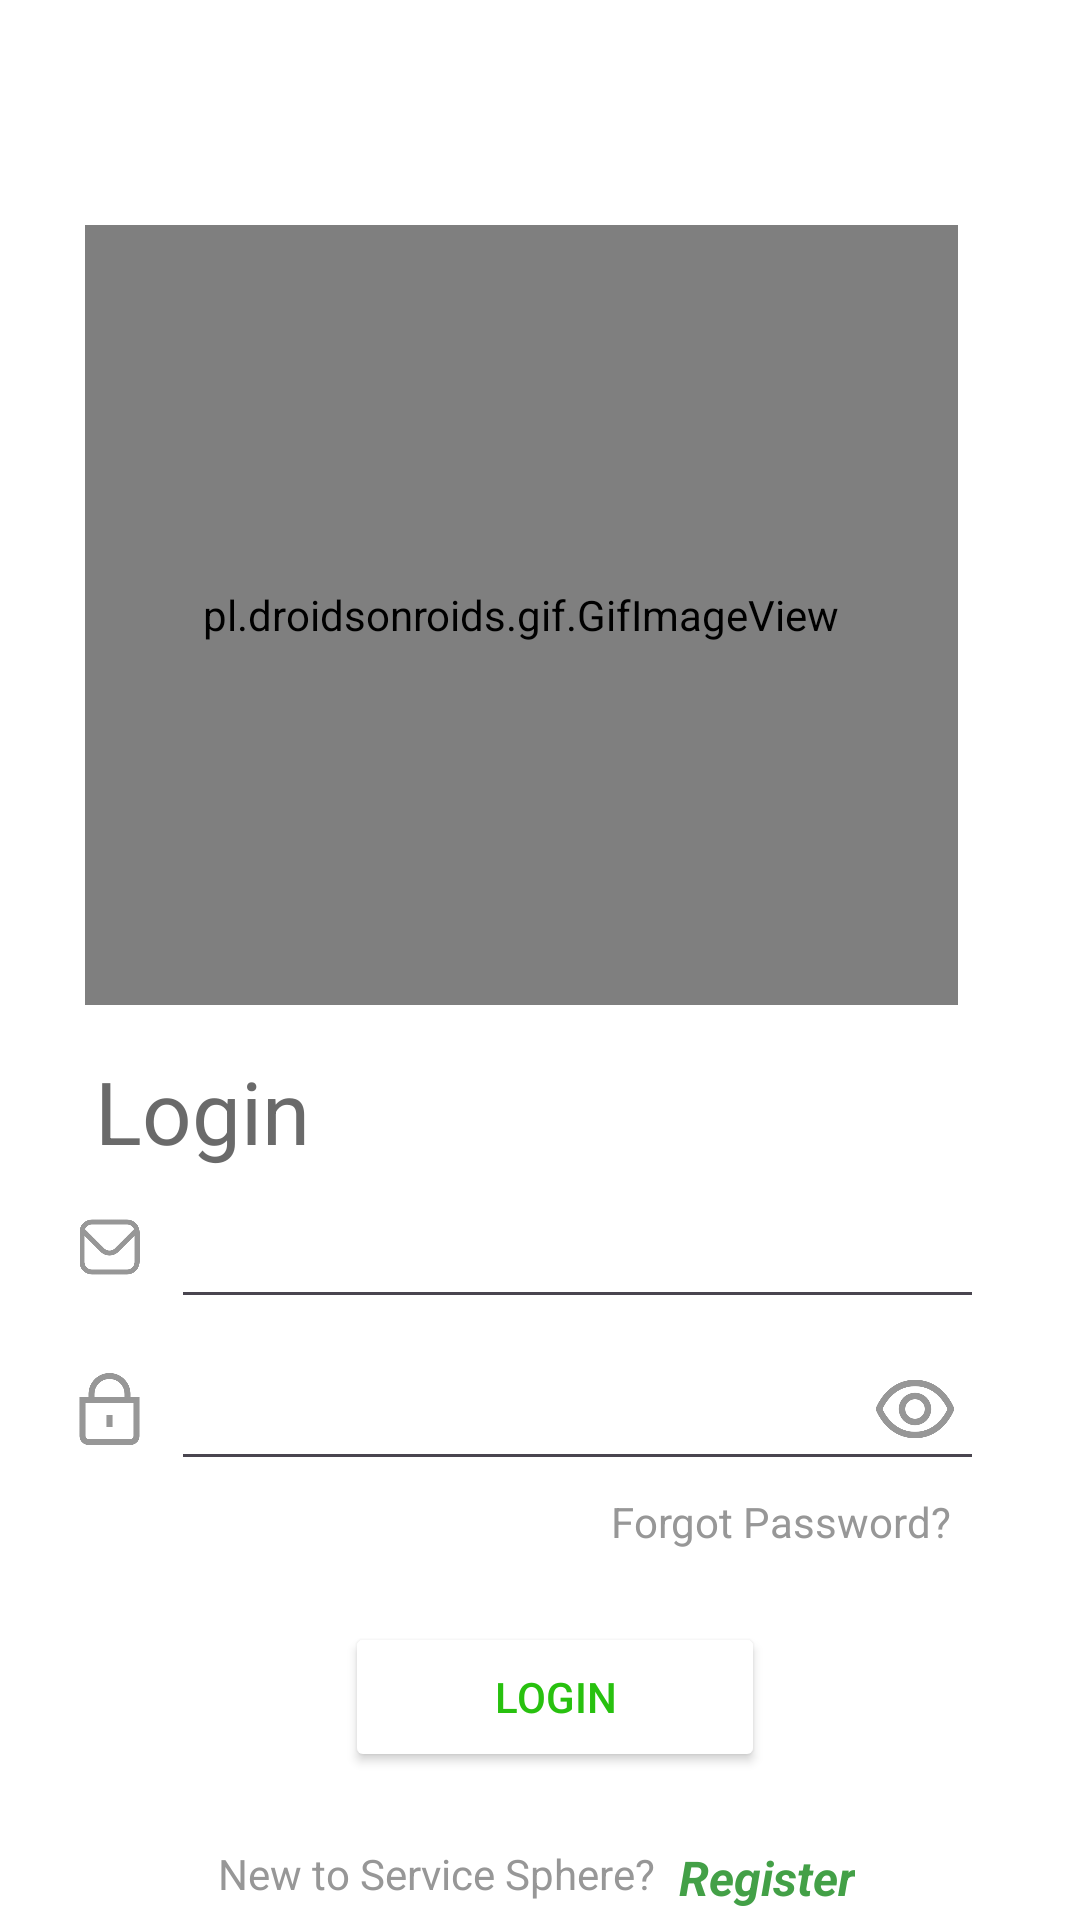

Screen size 1080*1920. Icon name, then its center in pixels as (x=x, y=y):
envelope: (x=110, y=1247)
eye: (x=915, y=1409)
lock: (x=109, y=1409)
